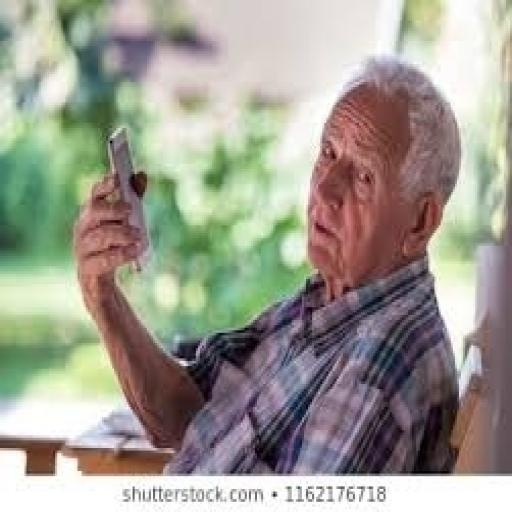sitting: (69, 51, 465, 474)
